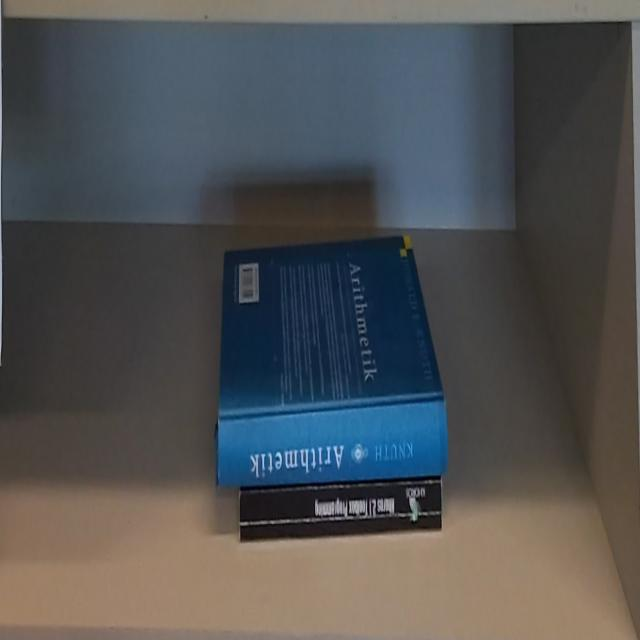Book Spine: (215, 402, 446, 491), (240, 487, 443, 540)
